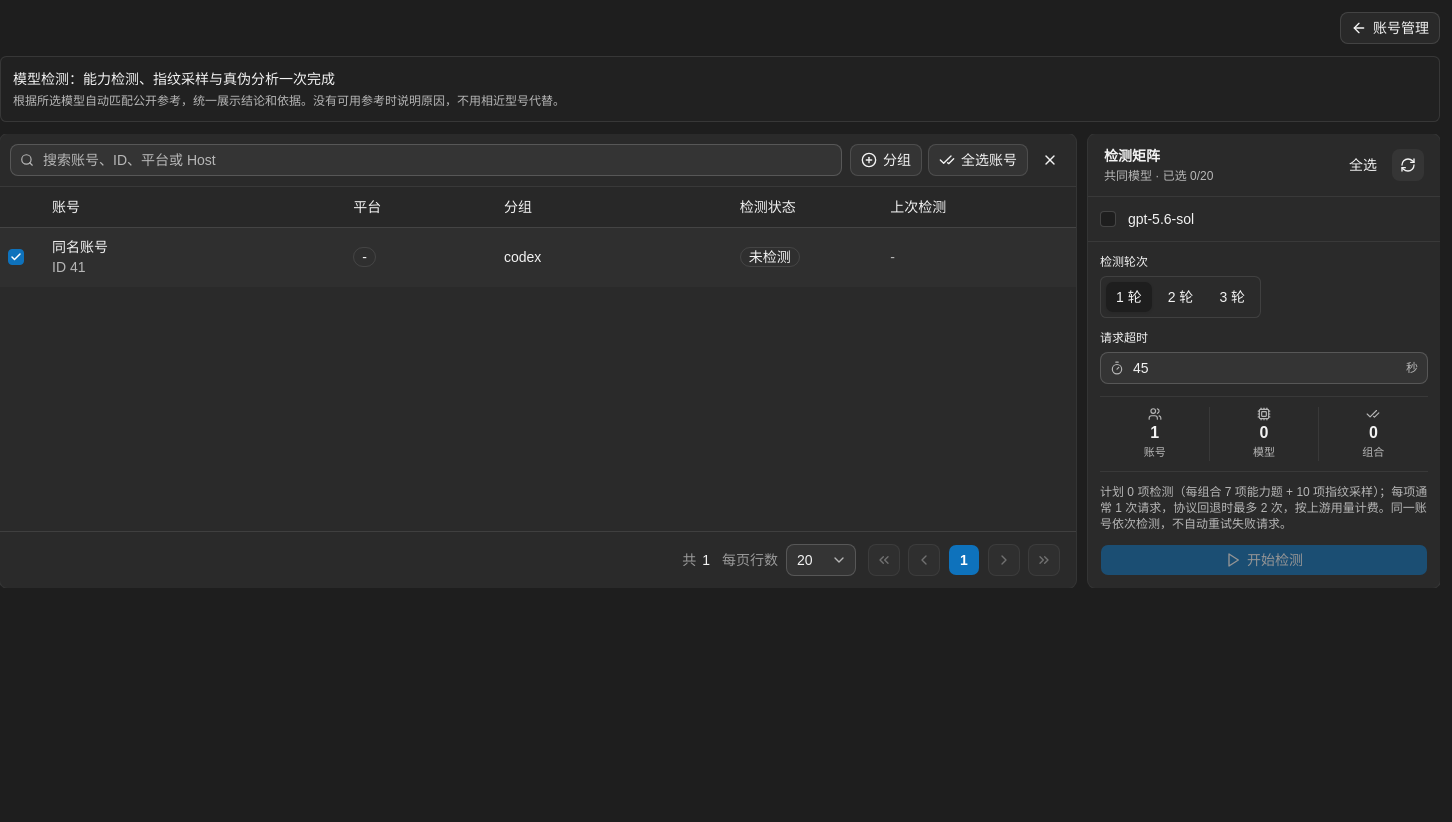
Test case: 只有智商检测统计时显示置信度且不提供常规模型检测的上次结果入口
Hover over the button with aria-label "查看账号 41 检测统计" at (770, 257), box x1=740 y1=247 x2=800 y2=267
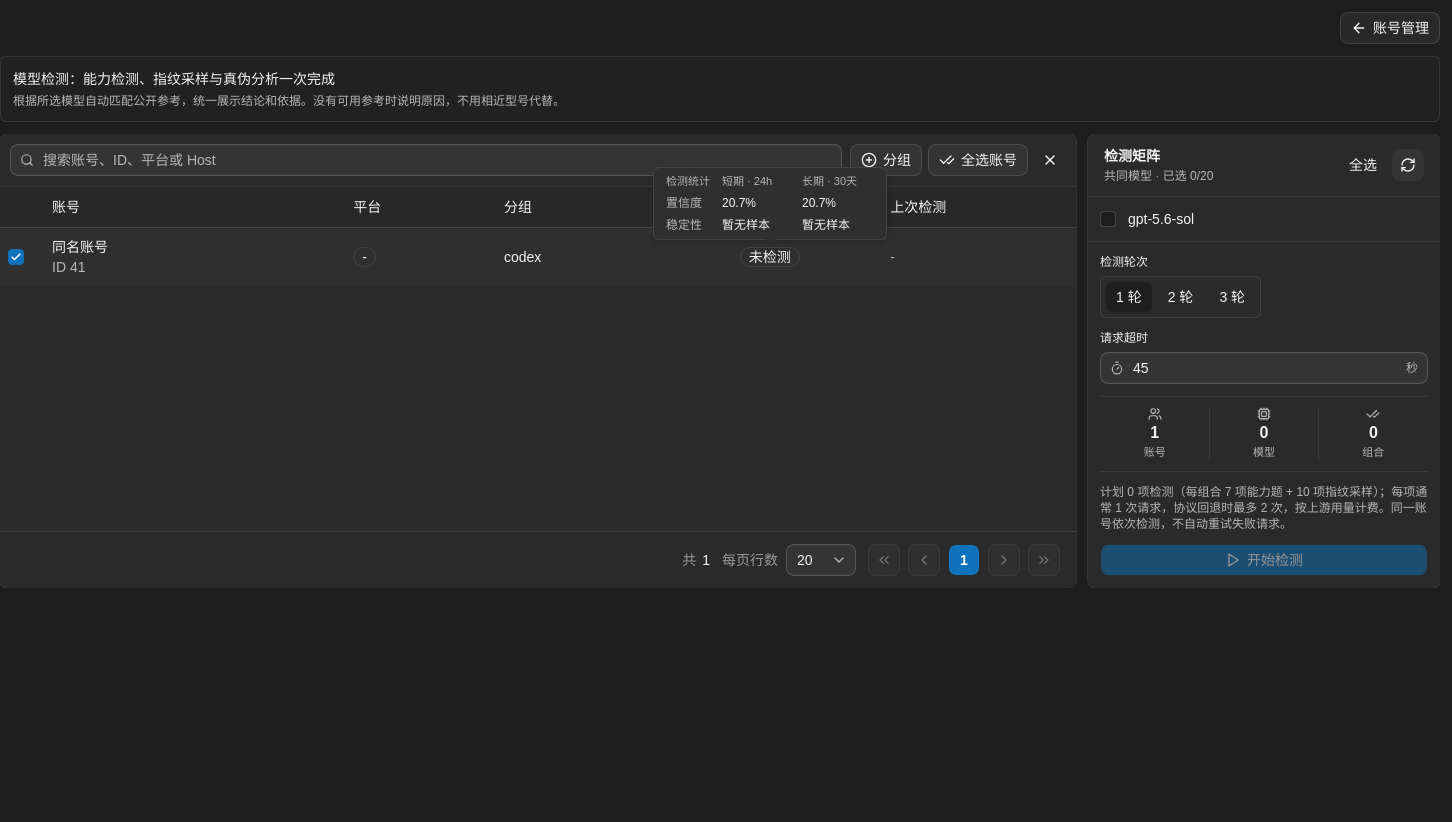
Expected: the text named "置信度短期：20.7%" is shown, x1=722 y1=196 x2=756 y2=210
